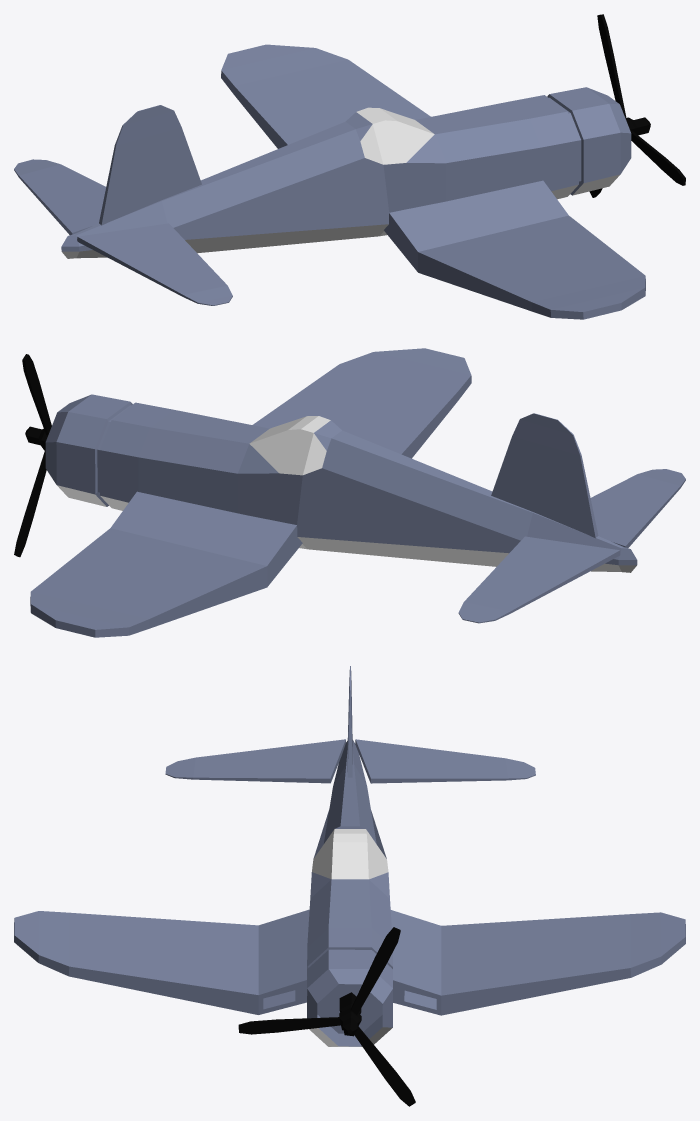
Rendered from corsair.glb.
The picture shows the model from 3 angles, top to bottom: view 1: azimuth 30°, elevation 25°; view 2: azimuth 150°, elevation 25°; view 3: azimuth 270°, elevation 25°; orthographic projection. The views are drawn at different scales.
Visible parts, largest first — view 1: Cube.001; view 2: Cube.001; view 3: Cube.001.
Part boxes in pixels (x1=…): Cube.001: x1=14, y1=14, x2=685, y2=319; Cube.001: x1=14, y1=348, x2=685, y2=637; Cube.001: x1=14, y1=666, x2=685, y2=1106.
Size of the model in its own units: 18.77 by 6.98 by 19.68.
